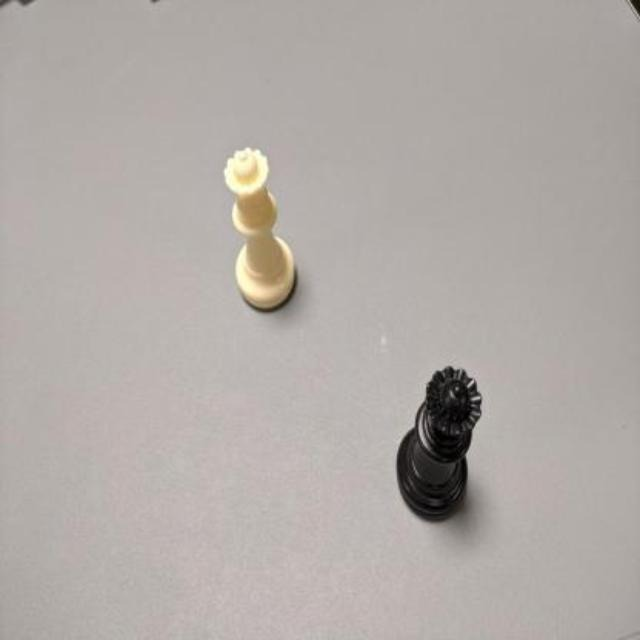black-queen: (396, 367, 483, 517)
white-queen: (224, 146, 296, 312)
